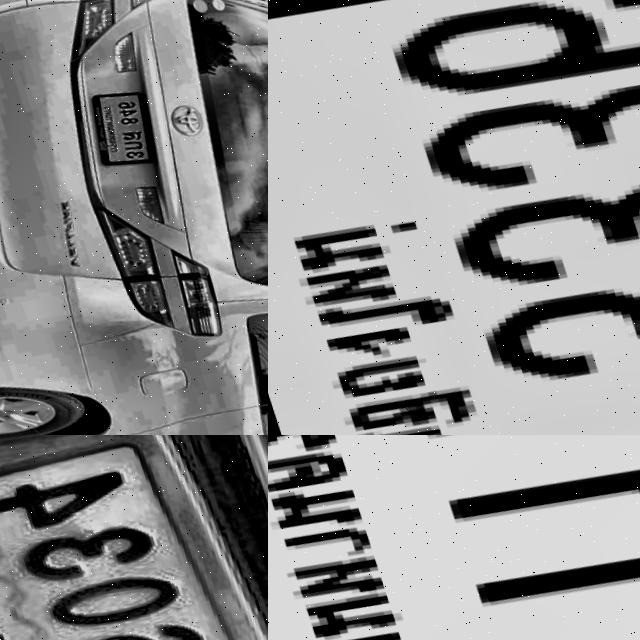license-plate: (268, 0, 640, 435), (268, 435, 640, 640), (0, 435, 268, 640), (76, 73, 166, 169)
